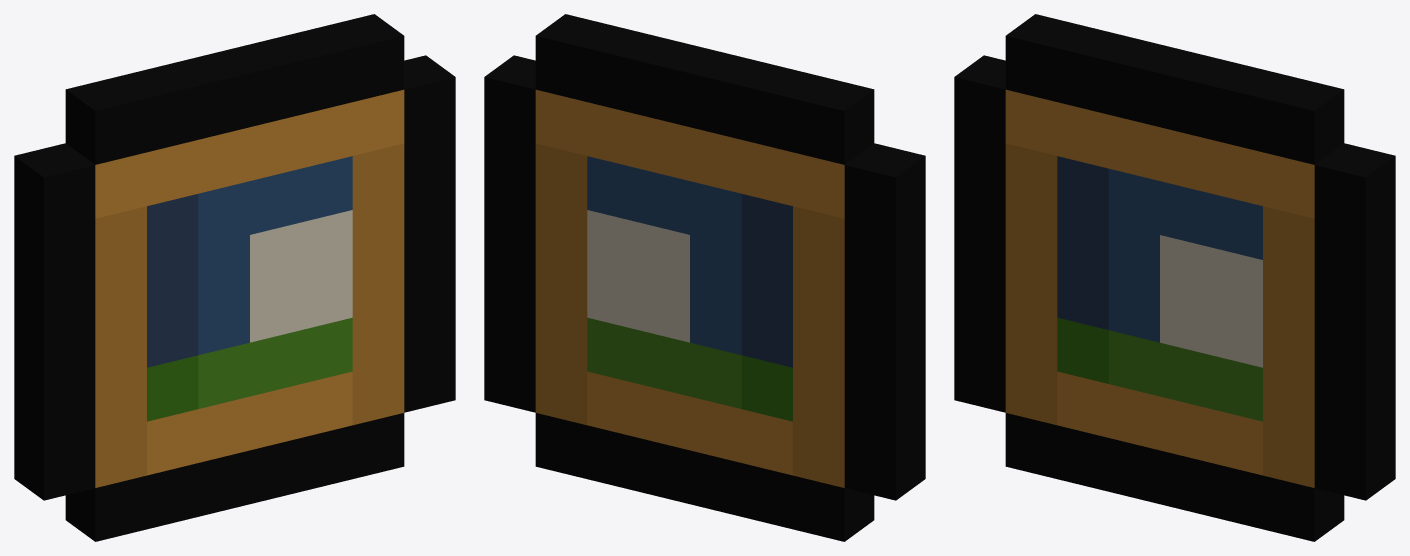
Rendered from clock_wood_late_night.glb.
3 renders of one model, left to right at view 1: azimuth 30°, elevation 25°; view 2: azimuth 150°, elevation 25°; view 3: azimuth 330°, elevation 25°, orthographic.
Visible parts, largest first — view 1: generated(Clone); view 2: generated(Clone); view 3: generated(Clone).
Boxes of the visible parts, box(x1,y1,x2,y2) form: generated(Clone): box(14, 14, 455, 541); generated(Clone): box(484, 14, 925, 541); generated(Clone): box(954, 14, 1395, 541).
Bounding box in the file's own units: 8 × 8 × 1.
Materials: 1 (1 with a texture image).
